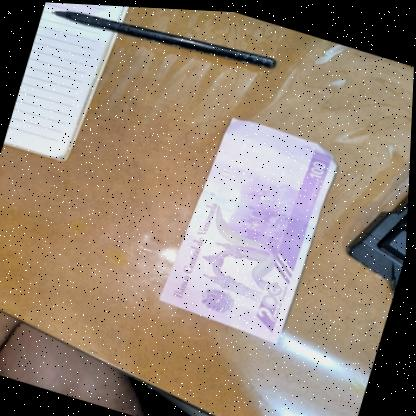one_hundred-back-vef: (158, 105, 345, 345)
